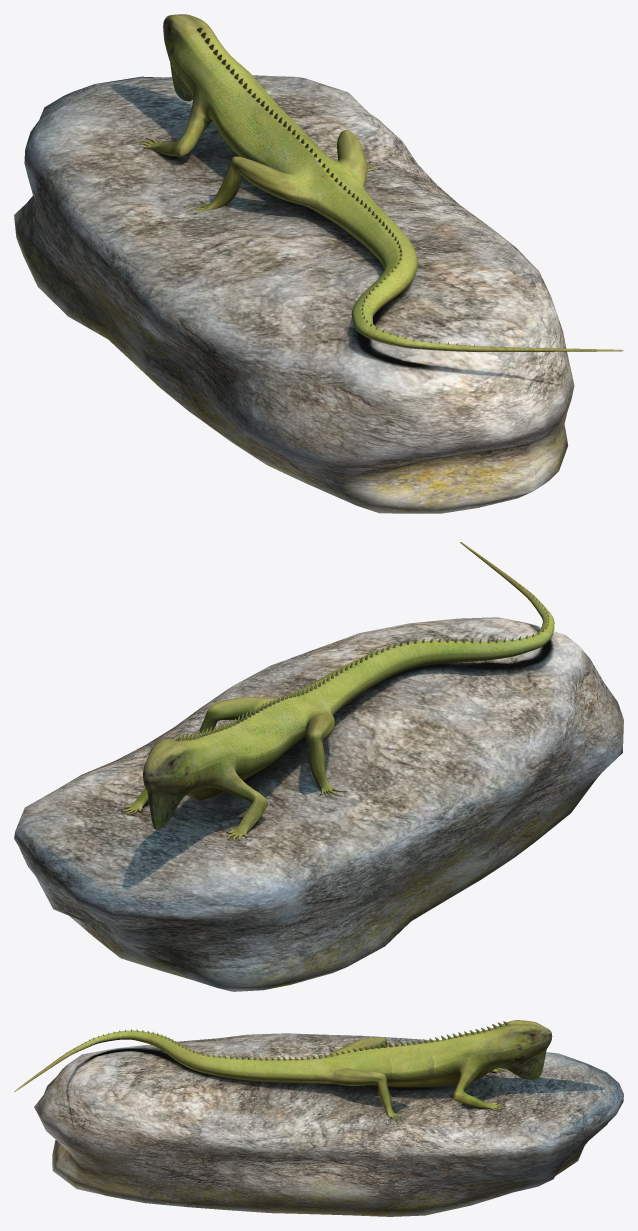
3 renders of one model, top to bottom at view 1: azimuth 30°, elevation 25°; view 2: azimuth 150°, elevation 25°; view 3: azimuth 270°, elevation 25°, orthographic. The views are drawn at different scales.
Parts seen in each view (by area): view 1: object_0, object_1; view 2: object_0, object_1; view 3: object_0, object_1.
Part boxes in pixels (x1=…): object_0: x1=14, y1=75, x2=574, y2=513; object_1: x1=140, y1=14, x2=623, y2=351; object_0: x1=14, y1=617, x2=623, y2=991; object_1: x1=121, y1=542, x2=554, y2=841; object_0: x1=34, y1=1033, x2=623, y2=1216; object_1: x1=14, y1=1020, x2=552, y2=1122.
Bounding box in the file's own units: 48.62 × 29.91 × 103.
2 materials, 2 textured.
